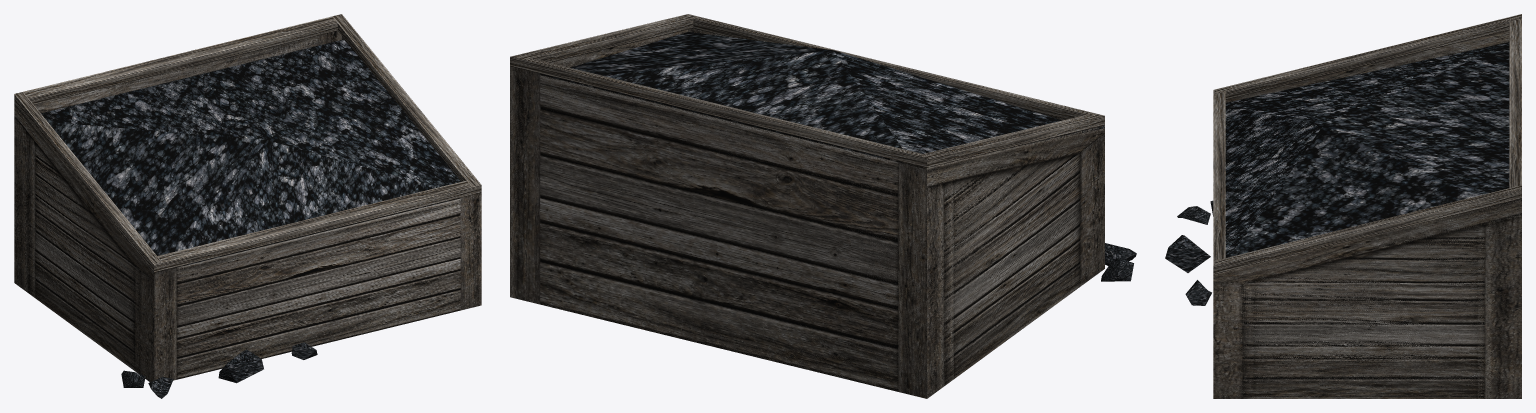
Rendered from mm9_deco_coalbin.glb.
The picture shows the model from 3 angles, left to right: view 1: azimuth 30°, elevation 25°; view 2: azimuth 150°, elevation 25°; view 3: azimuth 270°, elevation 25°; orthographic projection. The views are drawn at different scales.
Parts seen in each view (by area): view 1: Coalbin; view 2: Coalbin; view 3: Coalbin.
Boxes of the visible parts, left/top/right/bottom form: Coalbin: left=14, top=14, right=481, bottom=398; Coalbin: left=510, top=14, right=1136, bottom=398; Coalbin: left=1165, top=14, right=1521, bottom=398.
Bounding box in the file's own units: 2.06 × 1.05 × 1.63.
2 materials, 2 textured.
